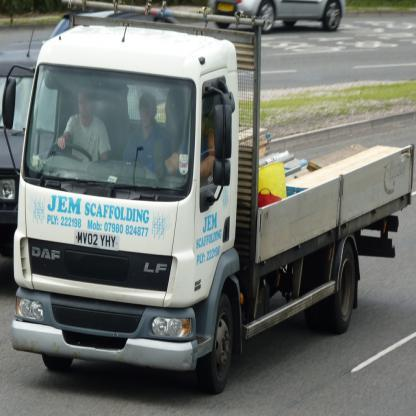truck: (0, 24, 402, 392)
